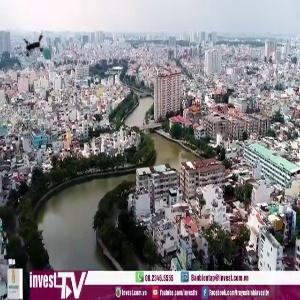drone: (13, 25, 52, 64)
